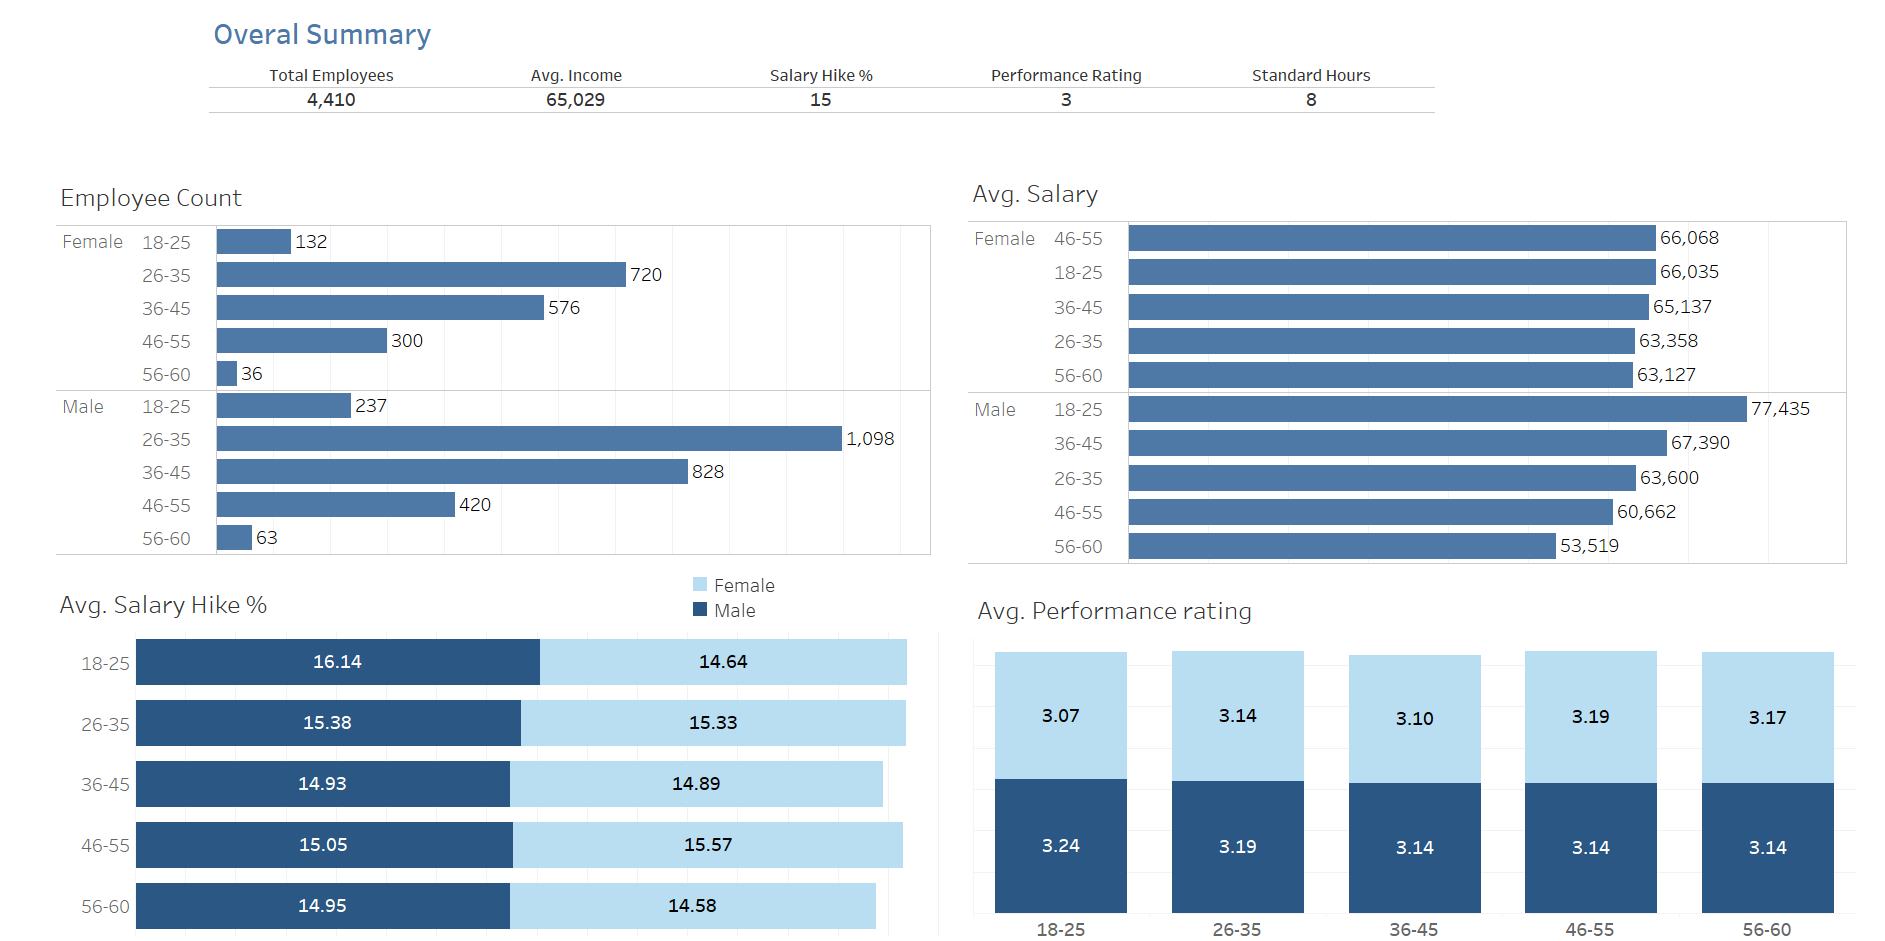

The dashboard page shown, as its layout file describes it:
{"tool":"tableau","page":{"name":"Summary Dashboard","canvas":[1000,1000],"units":"permille","ordinal":2},"visuals":[{"type":"worksheet","title":"Summary","mark":"Automatic","box":[111.6,44,799.9,156.5]},{"type":"worksheet","title":"Avg Sal by age n gender","mark":"Automatic","rows":["Gender","Calculation_1906711522301833217"],"cols":["MonthlyIncome"],"box":[506.9,211.5,457.6,402.2]},{"type":"worksheet","title":"Count by Age & Gender","mark":"Automatic","rows":["Gender","Calculation_1906711522301833217"],"cols":["EmployeeID"],"box":[31.8,215.2,455.7,401]},{"type":"legend","title":"Performance Rating/age gender","param":"[federated.0aancem1qxum5017pj3dp0znj50u].[none:Gender:nk]","box":[361,621,81,61.1]},{"type":"worksheet","title":"Salary hike / age n gender","mark":"Automatic","rows":["Calculation_1906711522301833217"],"cols":["PercentSalaryHike"],"box":[31.2,633.2,463.8,361.9]},{"type":"worksheet","title":"Performance Rating/age gender","mark":"Automatic","rows":["PerformanceRating"],"cols":["Calculation_1906711522301833217"],"box":[509.4,639.4,460.1,361.9]}]}

Visuals, with their boxes on the dashboard's canvas, which has no fixed pixel size, in thousandths of its width and height (x1, y1, x2, y2). These are canvas units, not pixel positions in the 1885x941 screenshot, which may show the page scaled, cropped or inside an application window:
"Summary" worksheet: {"left": 112, "top": 44, "right": 912, "bottom": 200}
"Avg Sal by age n gender" worksheet: {"left": 507, "top": 212, "right": 964, "bottom": 614}
"Count by Age & Gender" worksheet: {"left": 32, "top": 215, "right": 488, "bottom": 616}
"Performance Rating/age gender" legend: {"left": 361, "top": 621, "right": 442, "bottom": 682}
"Salary hike / age n gender" worksheet: {"left": 31, "top": 633, "right": 495, "bottom": 995}
"Performance Rating/age gender" worksheet: {"left": 509, "top": 639, "right": 970, "bottom": 1001}
